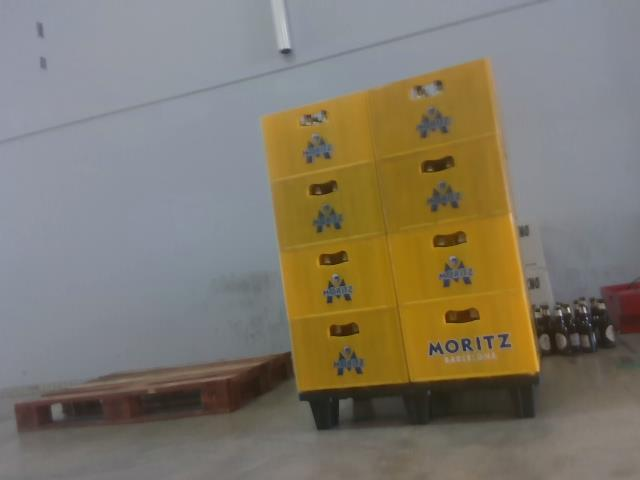block: (396, 388, 433, 426), (502, 382, 535, 421), (307, 396, 340, 431)
front: (299, 369, 549, 435)
hole pallet: (431, 387, 515, 417), (334, 393, 408, 426)
